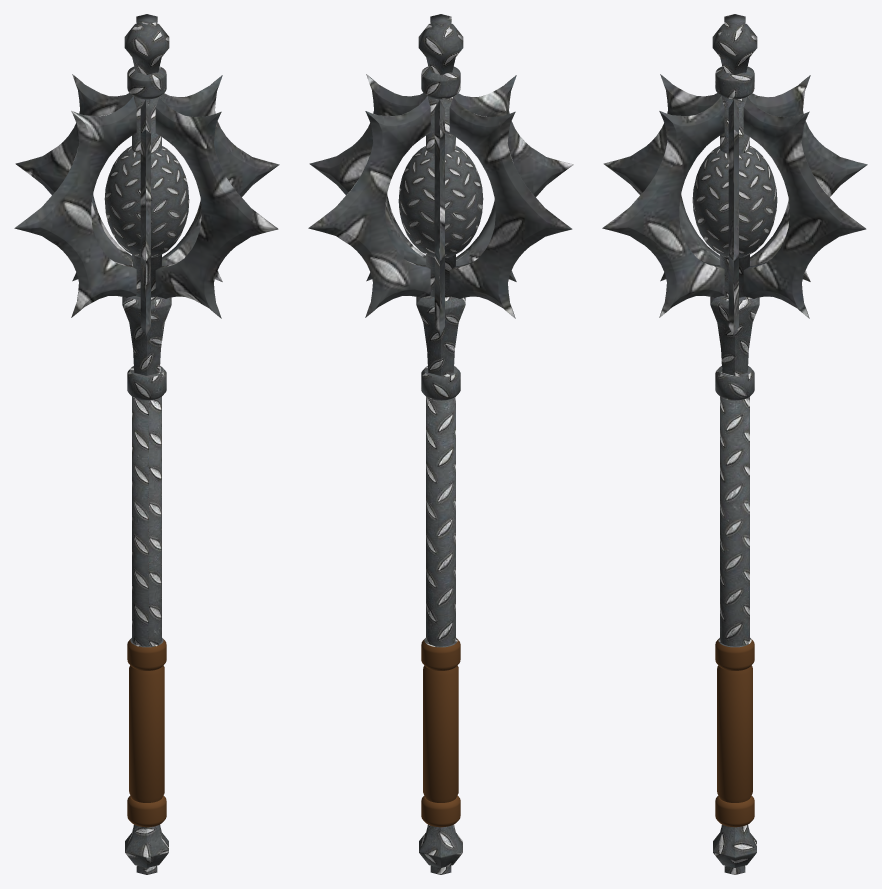
Rendered from gürbüz.fbx.
3 views of the same model, side by side, from view 1: azimuth 30°, elevation 25°; view 2: azimuth 150°, elevation 25°; view 3: azimuth 270°, elevation 25° (orthographic).
Parts seen in each view (by area): view 1: Cylinder_004.002, Cylinder_004; view 2: Cylinder_004.002, Cylinder_004; view 3: Cylinder_004.002, Cylinder_004.
Part boxes in pixels (x1,y1,x2,y2): Cylinder_004.002: (14,14,279,874); Cylinder_004: (127,639,166,827); Cylinder_004.002: (308,14,573,874); Cylinder_004: (421,639,460,827); Cylinder_004.002: (602,14,867,874); Cylinder_004: (715,639,754,827).
Bounding box in the file's own units: 1684 × 5171 × 1464.
